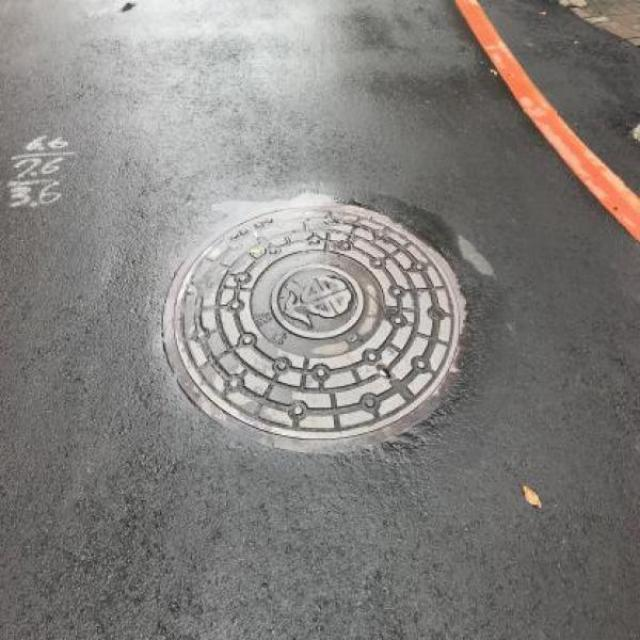Good: (157, 200, 476, 450)
